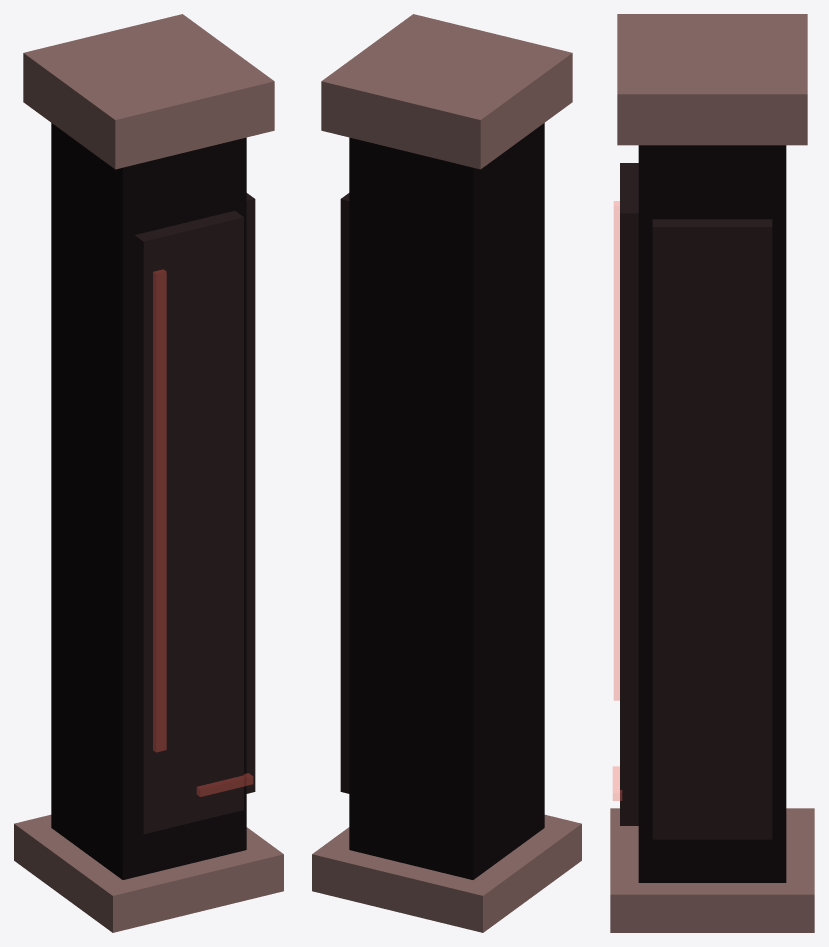
The model's file is hp_room_corner_pillar_core.glb.
3 views of the same model, side by side, from view 1: azimuth 30°, elevation 25°; view 2: azimuth 150°, elevation 25°; view 3: azimuth 270°, elevation 25° (orthographic). The views are drawn at different scales.
Parts seen in each view (by area): view 1: core_corner_pillar_core, core_corner_pillar_front_plate, core_corner_pillar_top_cap, core_corner_pillar_vertical_light; view 2: core_corner_pillar_core, core_corner_pillar_top_cap, core_corner_pillar_front_plate; view 3: core_corner_pillar_front_plate, core_corner_pillar_top_cap, core_corner_pillar_core, core_corner_pillar_vertical_light.
Boxes of the visible parts, x1,y1,x2,y2 form: core_corner_pillar_core: [51, 123, 246, 879]; core_corner_pillar_front_plate: [134, 193, 255, 834]; core_corner_pillar_top_cap: [14, 14, 283, 932]; core_corner_pillar_vertical_light: [153, 269, 252, 796]; core_corner_pillar_core: [349, 123, 544, 879]; core_corner_pillar_top_cap: [312, 14, 581, 932]; core_corner_pillar_front_plate: [340, 193, 349, 793]; core_corner_pillar_front_plate: [620, 163, 772, 839]; core_corner_pillar_top_cap: [610, 14, 814, 932]; core_corner_pillar_core: [638, 145, 786, 882]; core_corner_pillar_vertical_light: [613, 201, 621, 800].
Size of the model in its own units: 0.5799 by 2.62 by 0.5799.
